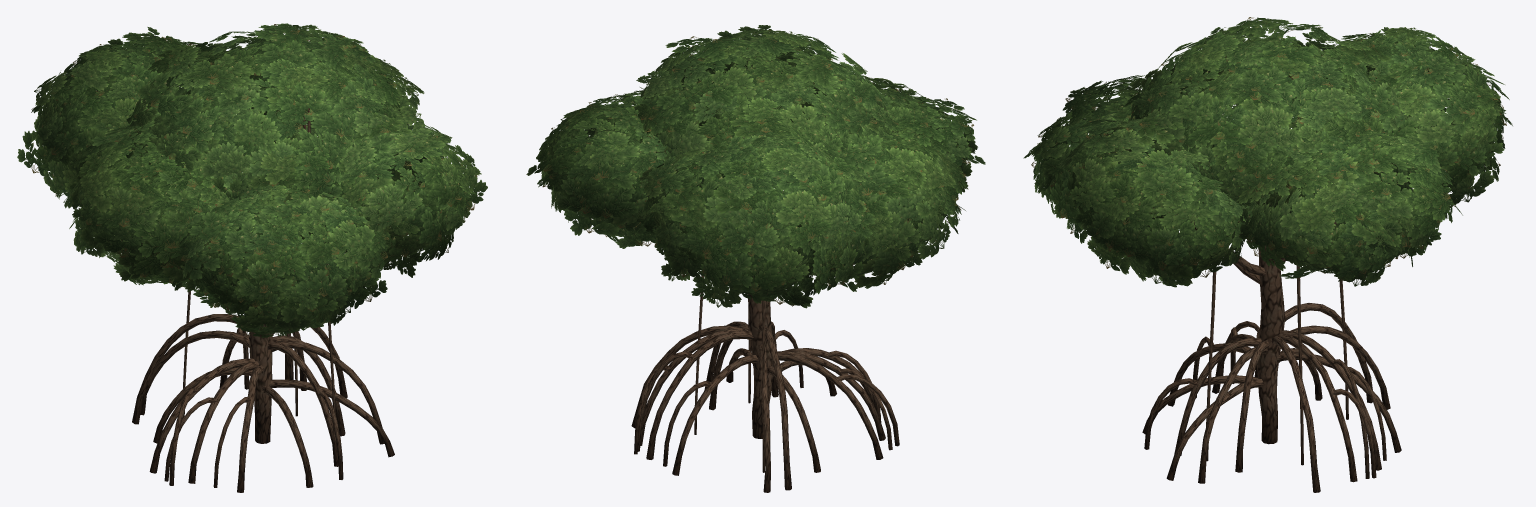
The model's file is mangrove_b.glb.
3 views of the same model, side by side, from view 1: azimuth 30°, elevation 25°; view 2: azimuth 150°, elevation 25°; view 3: azimuth 270°, elevation 25° (orthographic). The views are drawn at different scales.
Parts seen in each view (by area): view 1: leaves, wood; view 2: leaves, wood; view 3: leaves, wood.
Part boxes in pixels (x1,y1,x2,y2): leaves: (17, 23, 487, 337); wood: (132, 108, 394, 492); leaves: (526, 25, 985, 308); wood: (631, 106, 899, 492); leaves: (1023, 17, 1512, 287); wood: (1142, 207, 1401, 492).
Size of the model in its own units: 8.8 by 9.11 by 9.94.
2 materials, 2 textured.
